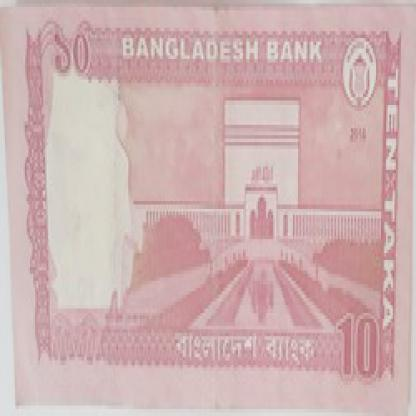Ten Taka: (42, 21, 108, 90), (330, 305, 382, 388)
